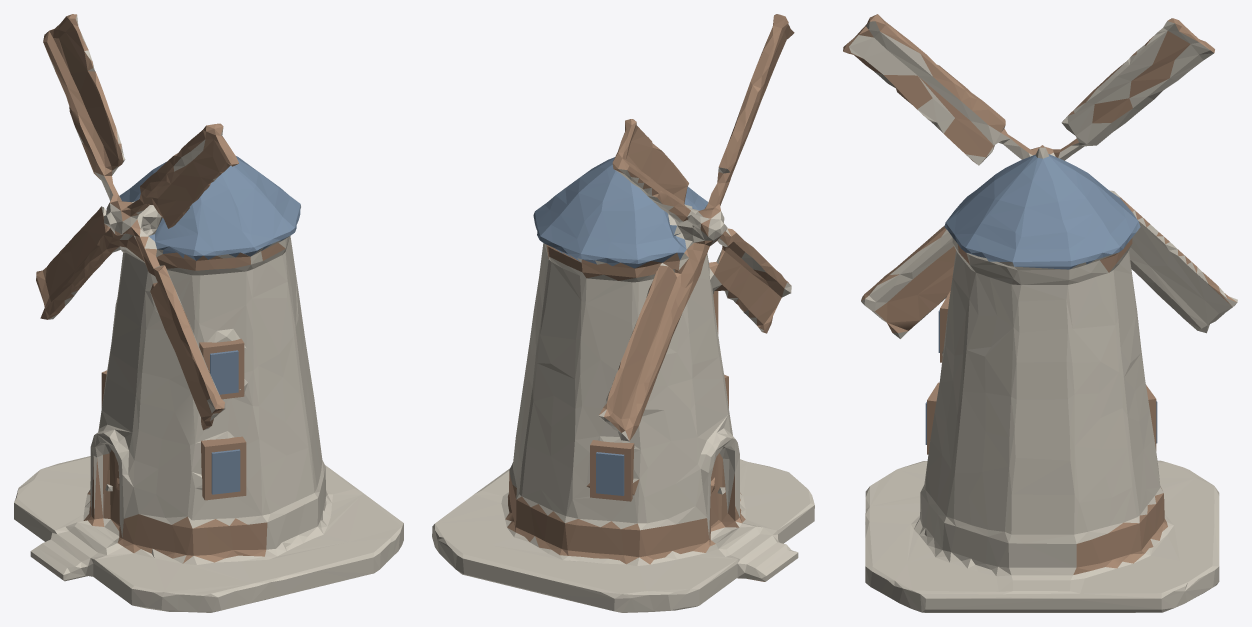
3 renders of one model, left to right at view 1: azimuth 30°, elevation 25°; view 2: azimuth 150°, elevation 25°; view 3: azimuth 270°, elevation 25°, orthographic. The views are drawn at different scales.
Visible parts, largest first — view 1: geometry_0; view 2: geometry_0; view 3: geometry_0.
Boxes of the visible parts, x1=… form: geometry_0: x1=14, y1=14, x2=403, y2=612; geometry_0: x1=432, y1=14, x2=814, y2=612; geometry_0: x1=843, y1=14, x2=1237, y2=612.
Bounding box in the file's own units: 0.6427 × 1 × 0.7261.
